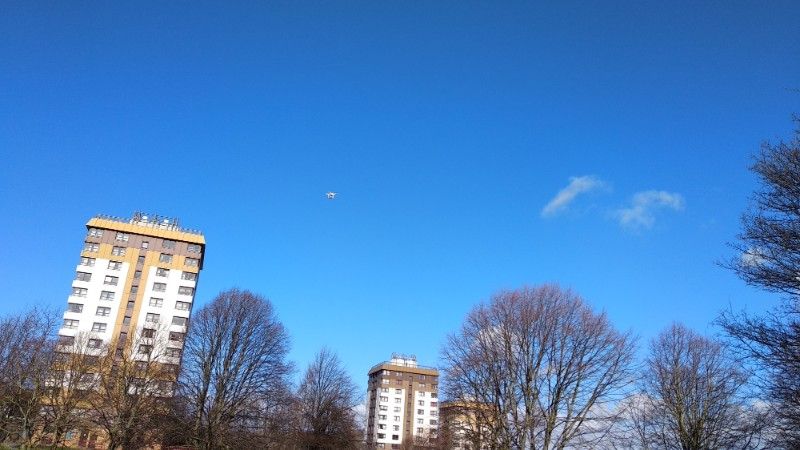drone: (326, 192, 336, 200)
